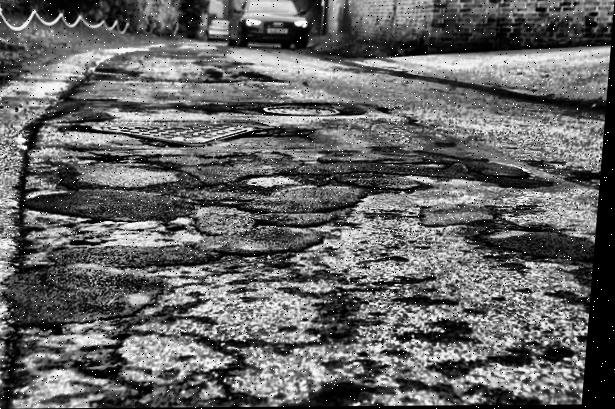pothole: (476, 223, 600, 269)
